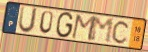0: (38, 10, 55, 36)
C: (111, 20, 131, 45)
G: (54, 11, 75, 39)
M: (70, 13, 97, 42), (89, 16, 115, 45)
U: (17, 5, 40, 35)
